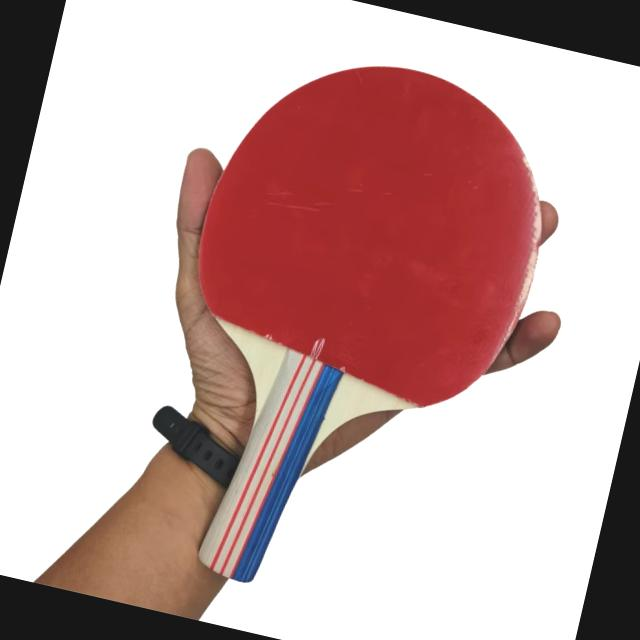TT Racket: (91, 0, 640, 529)
